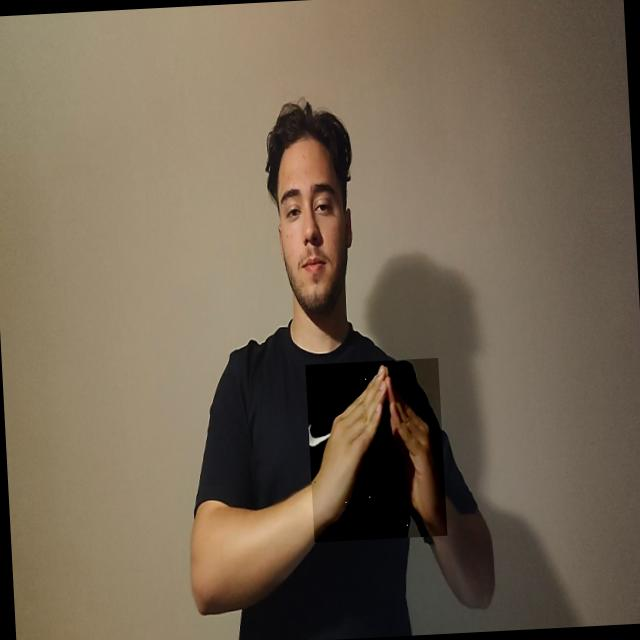house: (306, 358, 449, 542)
